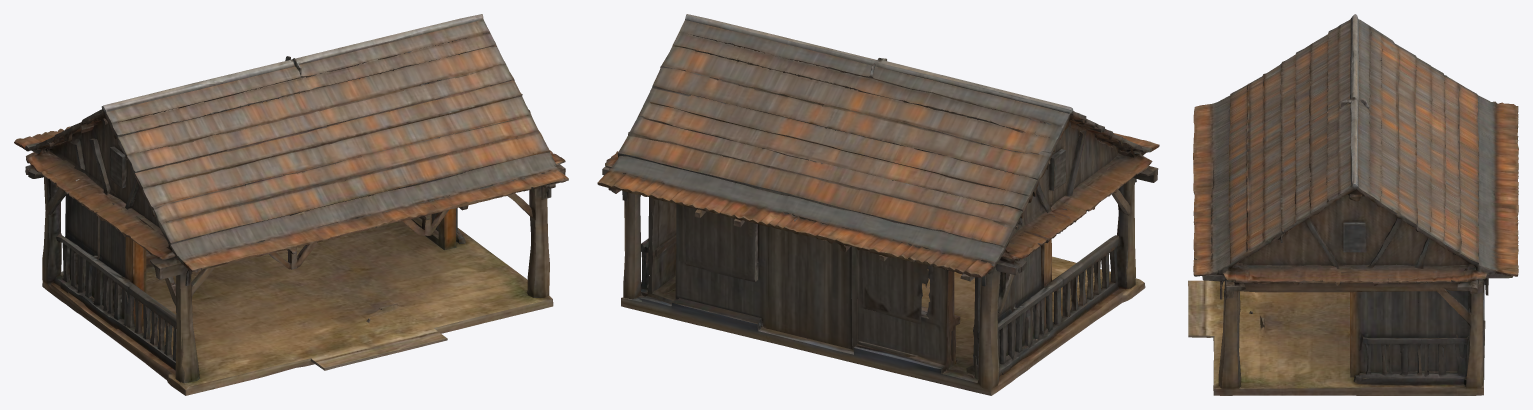
The model's file is stable__horse-stable.glb.
3 views of the same model, side by side, from view 1: azimuth 30°, elevation 25°; view 2: azimuth 150°, elevation 25°; view 3: azimuth 270°, elevation 25° (orthographic). The views are drawn at different scales.
Bounding box in the file's own units: 2 × 1.11 × 1.53.
1 material, 1 textured.
